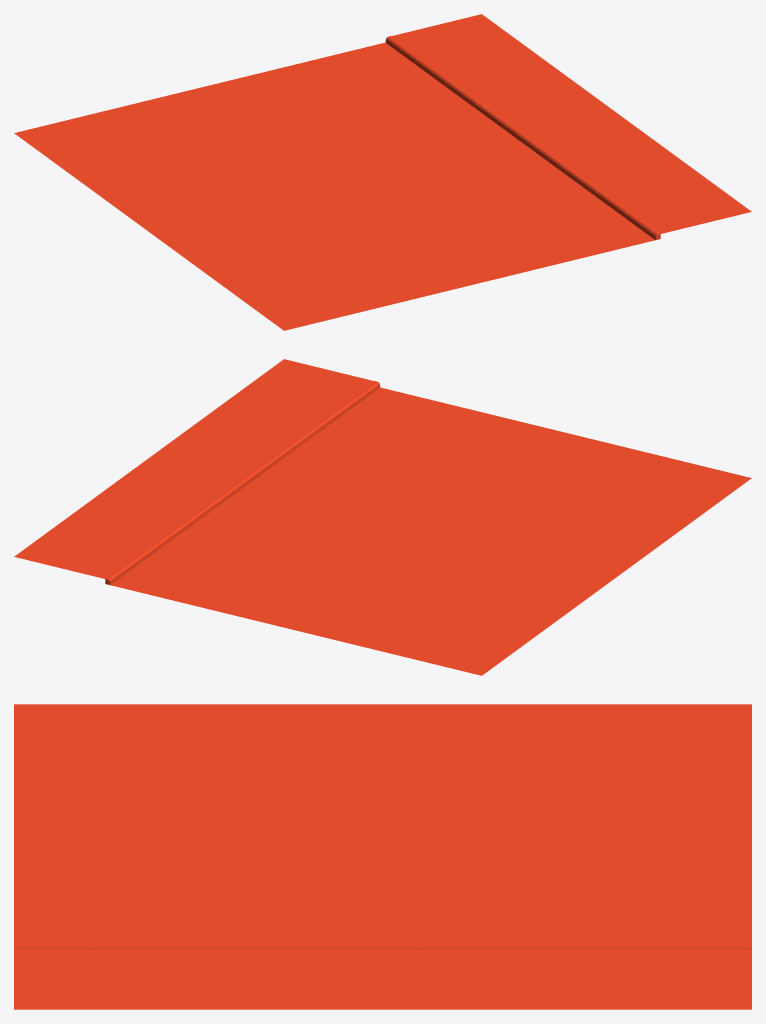
File: SM_Road_Parking_Side_10x10_City.fbx
3 renders of one model, top to bottom at view 1: azimuth 30°, elevation 25°; view 2: azimuth 150°, elevation 25°; view 3: azimuth 270°, elevation 25°, orthographic. The views are drawn at different scales.
Visible parts, largest first — view 1: SM_Road_Parking_Side_10x10_City; view 2: SM_Road_Parking_Side_10x10_City; view 3: SM_Road_Parking_Side_10x10_City.
Part boxes in pixels (bbox=[...]): SM_Road_Parking_Side_10x10_City: bbox=[14, 14, 751, 330]; SM_Road_Parking_Side_10x10_City: bbox=[14, 359, 751, 675]; SM_Road_Parking_Side_10x10_City: bbox=[14, 704, 751, 1009].
Bounding box in the file's own units: 10 × 0.1084 × 10.
